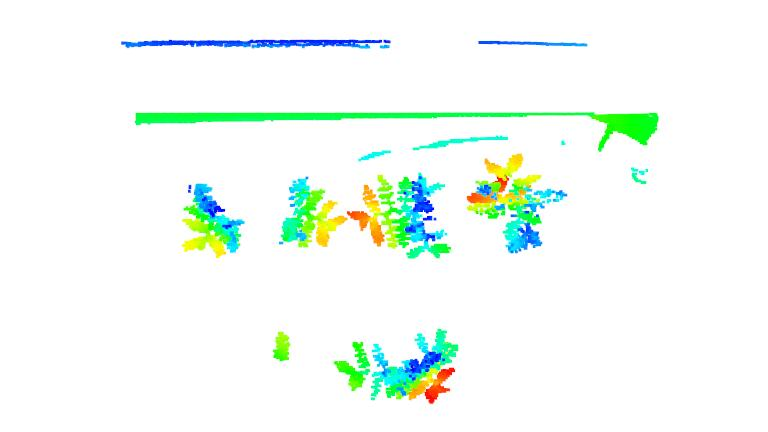chickpea: (332, 327, 460, 408), (469, 153, 570, 254), (347, 173, 454, 260), (273, 173, 346, 254), (177, 182, 247, 256), (264, 331, 300, 368)
